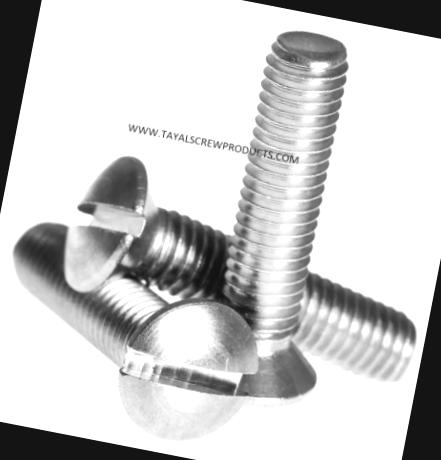screw: (107, 289, 266, 457)
